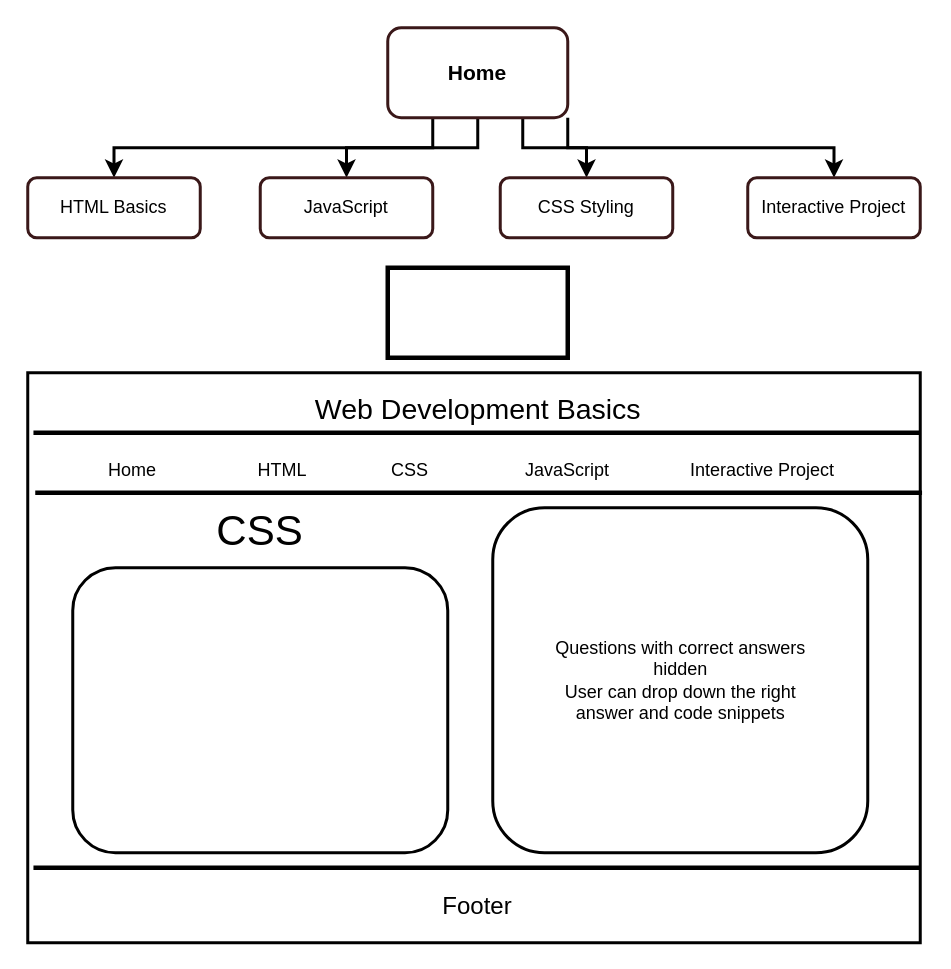
Image size: 951x969. Some labels were removed from this diagram. Here are the shapes that lost their labels. From the top down, the centre of each, then its label:
the point at 477,312: Wire Frame:
the point at 259,710: CSS Styling Lectures and examples
